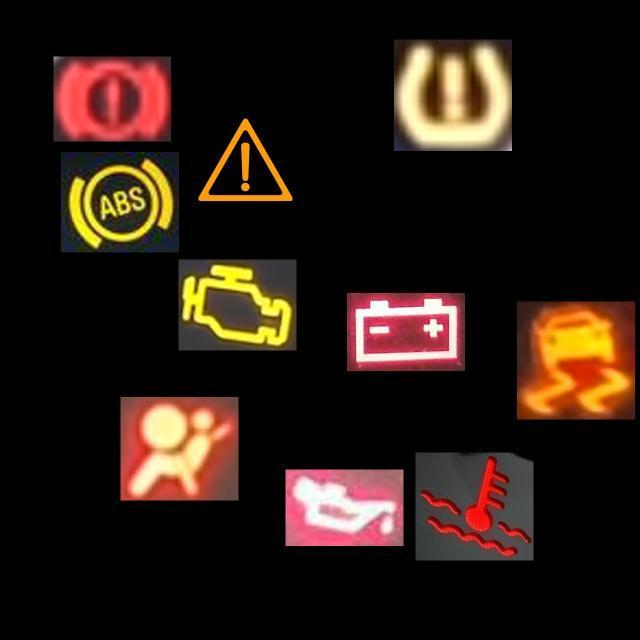Central Warning lamp: (186, 101, 304, 219)
Engine cooling system: (416, 452, 534, 560)
